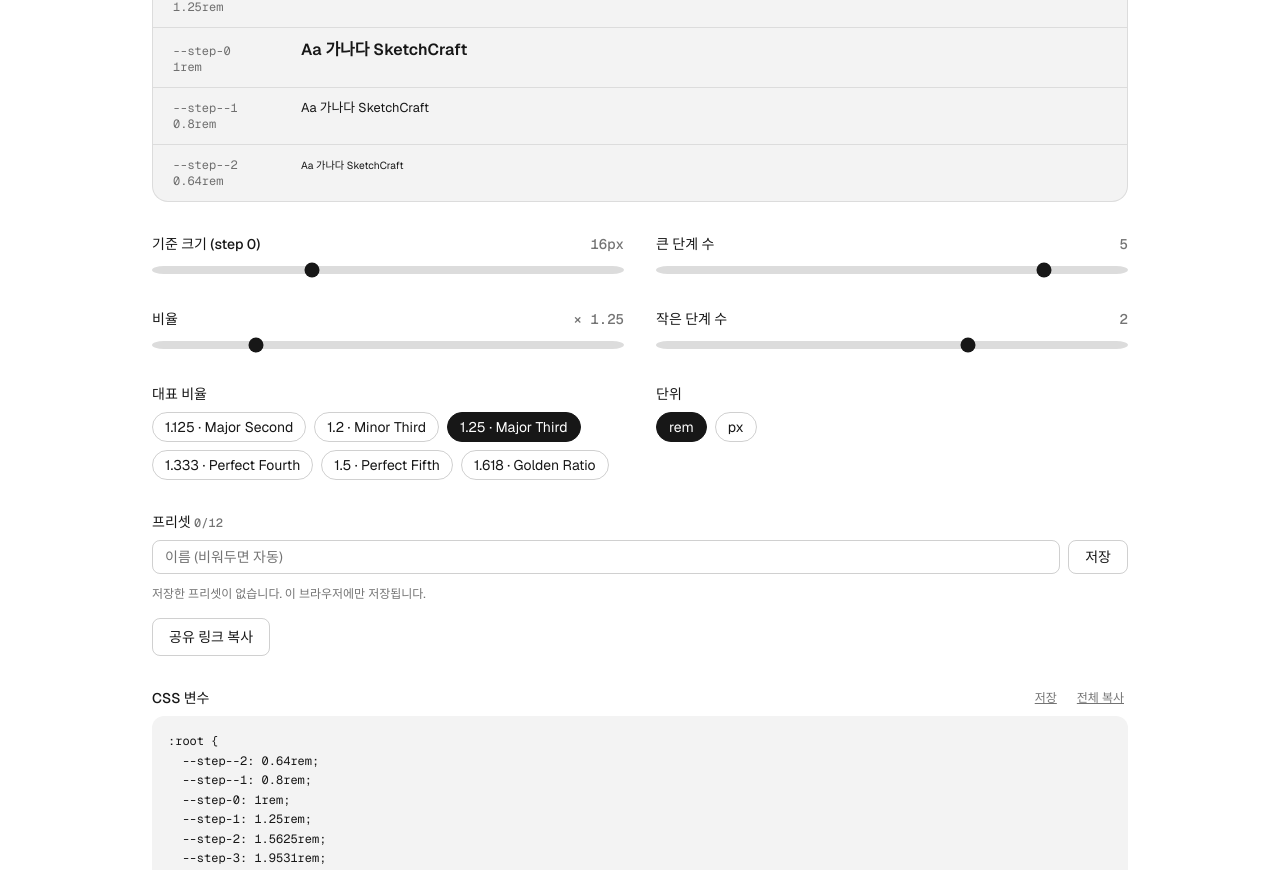
Test case: TypeScaleMaker › 단위를 px로 바꾸면 px 값이 나온다
(page scrolled)
Click the button "px" at (736, 427), box x1=715 y1=412 x2=757 y2=442
(page scrolled)
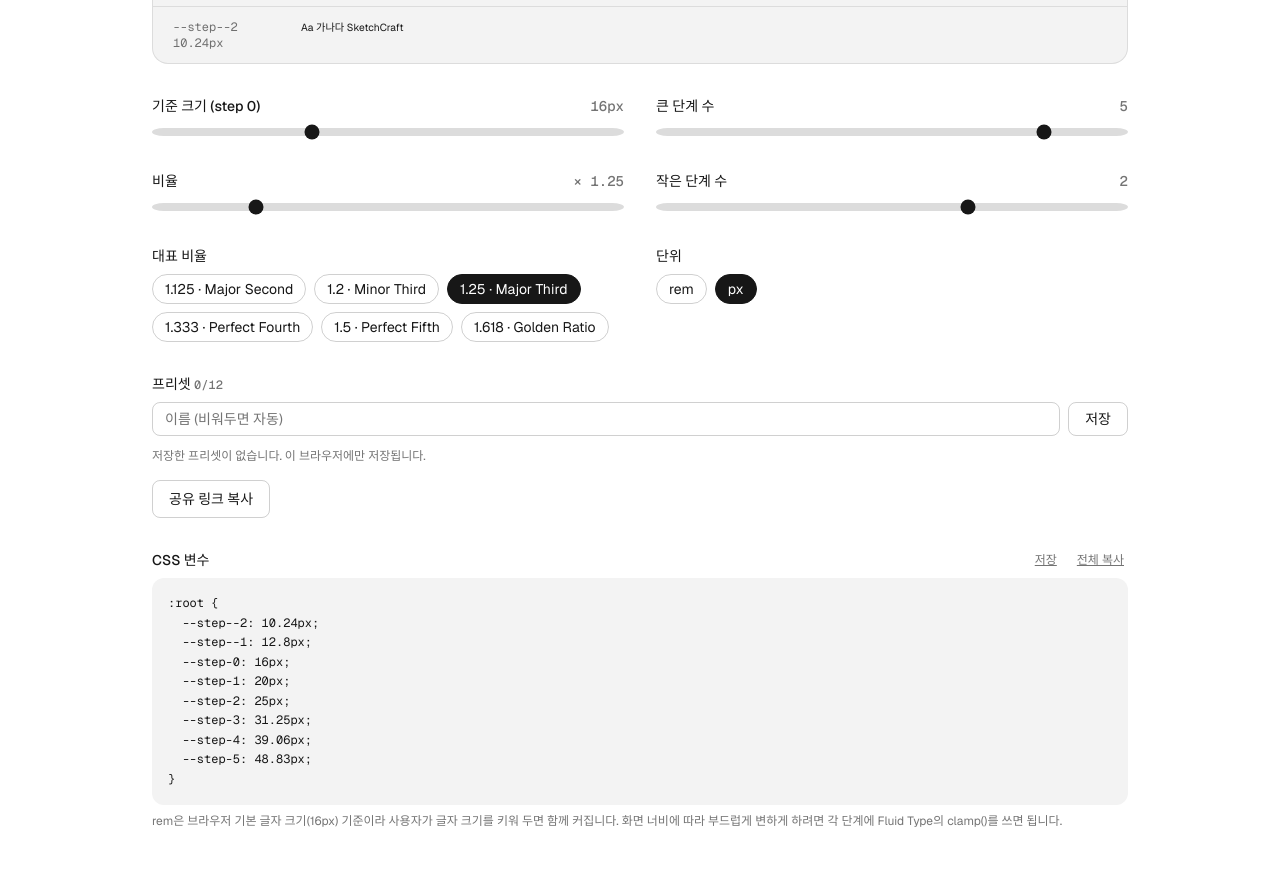
Expected: the text named "CSS 변수 코드" shows "--step-0: 16px;", x1=168 y1=595 x2=319 y2=786
Expected: the text named "CSS 변수 코드" shows "--step-1: 20px;", x1=168 y1=595 x2=319 y2=786
